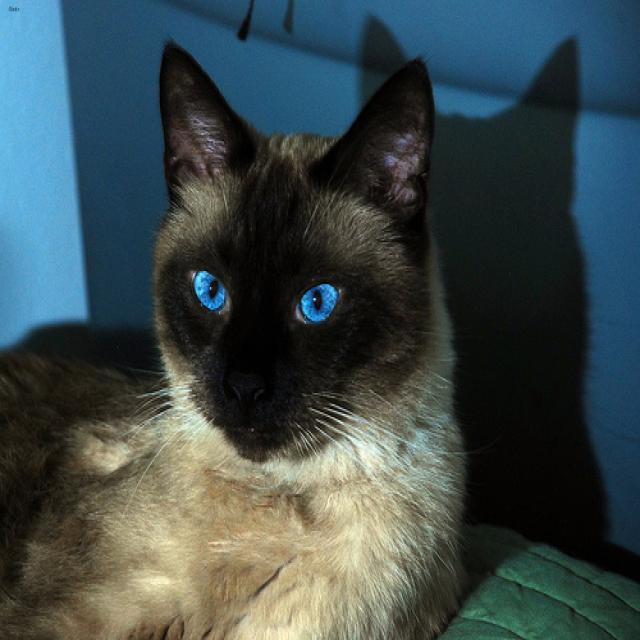cat: (152, 40, 433, 460)
